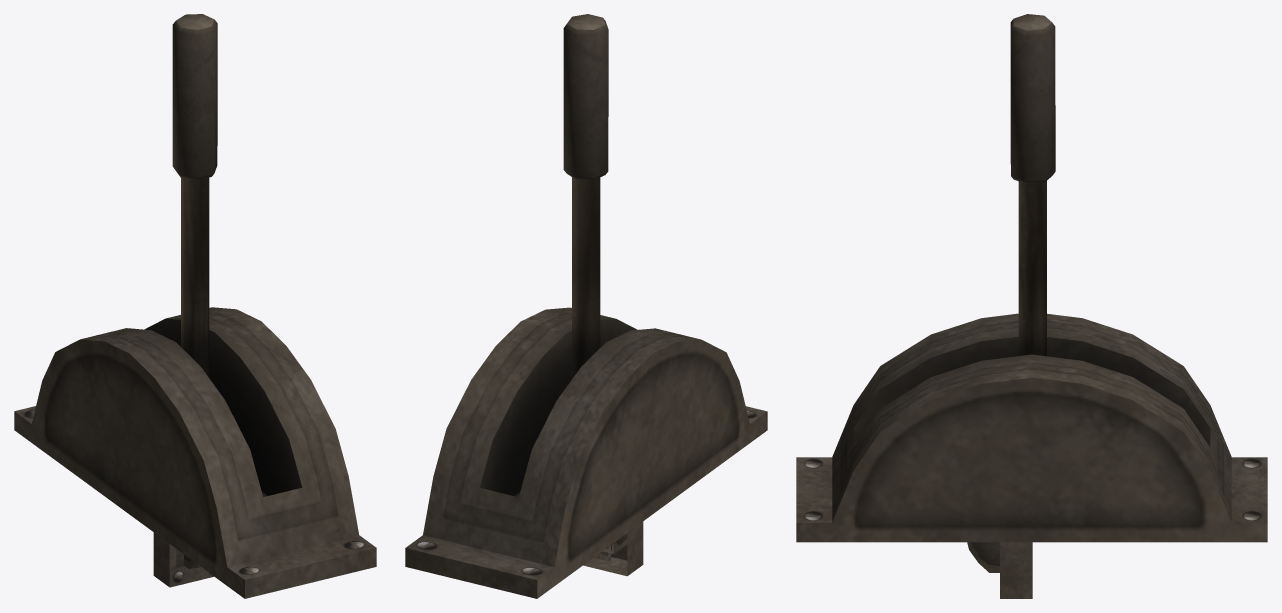
The model's file is Levers.fbx.
3 renders of one model, left to right at view 1: azimuth 30°, elevation 25°; view 2: azimuth 150°, elevation 25°; view 3: azimuth 270°, elevation 25°, orthographic. The views are drawn at different scales.
Parts seen in each view (by area): view 1: Lever_Large, Lever_Twist; view 2: Lever_Large, Lever_Twist; view 3: Lever_Large, Lever_Twist, Lever_Small.
Boxes of the visible parts, x1,y1,x2,y2 form: Lever_Large: [14, 14, 376, 598]; Lever_Twist: [153, 532, 213, 587]; Lever_Large: [405, 14, 767, 598]; Lever_Twist: [583, 521, 643, 576]; Lever_Large: [796, 14, 1267, 542]; Lever_Twist: [1000, 542, 1032, 598]; Lever_Small: [967, 542, 999, 572].
Size of the model in its own units: 3.2 by 12.62 by 9.7.
